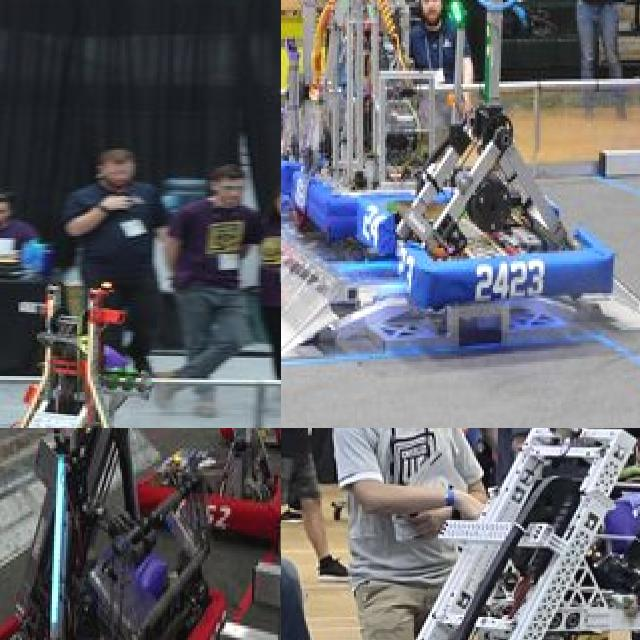FRC-Robots: (353, 0, 603, 318), (281, 428, 640, 640), (285, 0, 531, 257), (0, 428, 266, 640), (0, 273, 203, 428), (99, 428, 281, 539), (281, 0, 374, 212)
